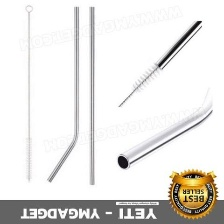drinking_straw: (44, 4, 82, 185), (87, 3, 97, 187)
